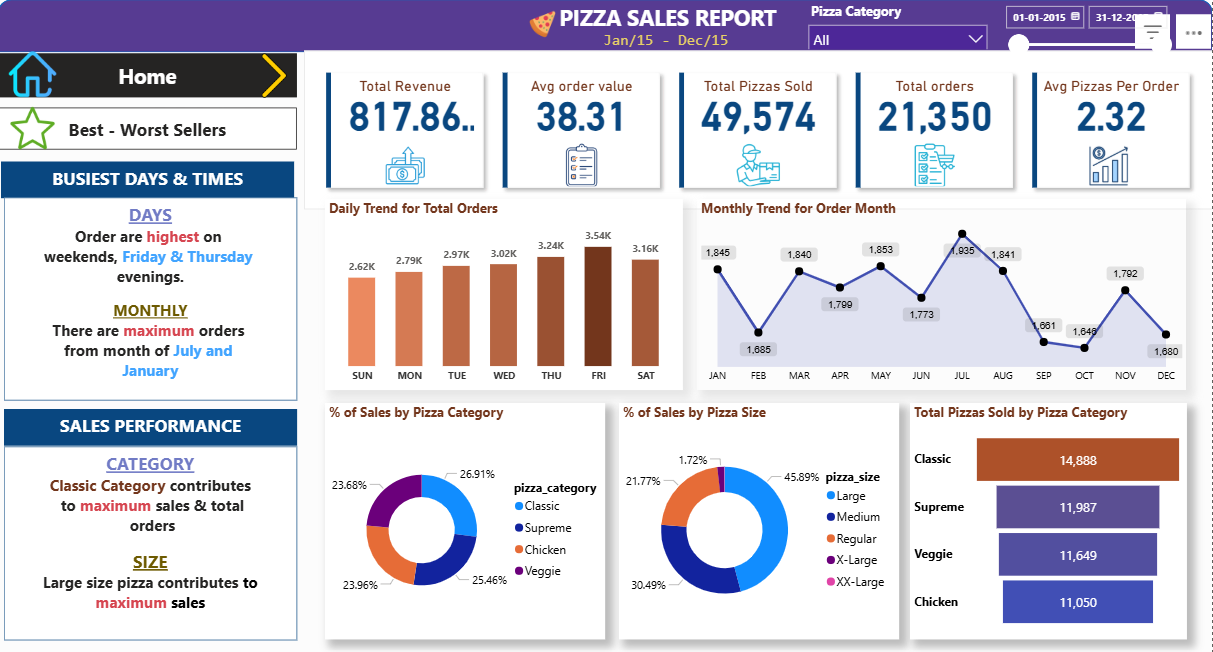

What the dashboard file says about the page in this screenshot:
{"tool":"powerbi","page":{"name":"Home","canvas":[1500,820],"ordinal":0},"visuals":[{"type":"shape","box":[0,1.5,1500,65.2],"z":0},{"type":"cardVisual","fields":{"Data":["pizza_sales.Total Revenue","pizza_sales.Average order value","pizza_sales.Total Pizzas Sold","pizza_sales.Total orders","pizza_sales.Average Pizzas Per Order"]},"box":[377.9,64.8,1122.6,196.4],"z":1000},{"type":"textbox","box":[673.3,0,310,51.7],"z":2000},{"type":"textbox","box":[743.3,35,168.3,31.7],"z":3000},{"type":"image","box":[655,13.3,33.3,38.3],"z":4000},{"type":"columnChart","title":"Daily Trend for Total Orders","fields":{"Y":["pizza_sales.Total orders"],"Category":["pizza_sales.Order Day"]},"box":[404,248,442,236],"z":5000},{"type":"areaChart","title":"Monthly Trend for Order Month","fields":{"Y":["pizza_sales.Total orders"],"Category":["pizza_sales.Order Month"]},"box":[864,248,604,236],"z":6000},{"type":"donutChart","title":"% of Sales by Pizza Category","fields":{"Y":["pizza_sales.Total Revenue"],"Category":["pizza_sales.pizza_category"]},"box":[404,500,346,292],"z":7000},{"type":"donutChart","title":"% of Sales by Pizza Size","fields":{"Y":["pizza_sales.Total Revenue"],"Category":["pizza_sales.pizza_size"]},"box":[766,500,346,292],"z":8000},{"type":"funnel","title":"Total Pizzas Sold by Pizza Category","fields":{"Y":["pizza_sales.Total Pizzas Sold"],"Category":["pizza_sales.pizza_category"]},"box":[1126,500,342,292],"z":9000},{"type":"textbox","box":[3.8,201.9,362.3,45.3],"z":10000},{"type":"textbox","box":[7.5,247.2,362.3,250.9],"z":11000},{"type":"textbox","box":[7.6,507.6,362.1,45.5],"z":12000},{"type":"textbox","box":[7.6,553,362.1,239.4],"z":13000},{"type":"slicer","fields":{"Values":["pizza_sales.pizza_category"]},"box":[990.9,0,240.9,63.6],"z":14000},{"type":"slicer","fields":{"Values":["pizza_sales.order_date"]},"box":[1231.8,0,225.8,80.3],"z":15000},{"type":"pageNavigator","box":[0,67.9,369.8,54.7],"z":16000},{"type":"pageNavigator","box":[0,135.8,369.8,52.8],"z":17000},{"type":"image","box":[313.2,67.9,56.6,54.7],"z":18000},{"type":"image","box":[0,64.2,84.9,58.5],"z":19000},{"type":"image","box":[0,134,84.9,54.7],"z":20000}]}

Visuals, with their boxes on the page's 1500x820 design canvas (x1, y1, x2, y2). These are canvas units, not pixel positions in the 1213x652 screenshot, which may show the page scaled, cropped or inside an application window:
shape: {"x1": 0, "y1": 2, "x2": 1500, "y2": 67}
cardVisual - pizza_sales.Total Revenue x pizza_sales.Average order value: {"x1": 378, "y1": 65, "x2": 1500, "y2": 261}
textbox: {"x1": 673, "y1": 0, "x2": 983, "y2": 52}
textbox: {"x1": 743, "y1": 35, "x2": 912, "y2": 67}
image: {"x1": 655, "y1": 13, "x2": 688, "y2": 52}
"Daily Trend for Total Orders" columnChart: {"x1": 404, "y1": 248, "x2": 846, "y2": 484}
"Monthly Trend for Order Month" areaChart: {"x1": 864, "y1": 248, "x2": 1468, "y2": 484}
"% of Sales by Pizza Category" donutChart: {"x1": 404, "y1": 500, "x2": 750, "y2": 792}
"% of Sales by Pizza Size" donutChart: {"x1": 766, "y1": 500, "x2": 1112, "y2": 792}
"Total Pizzas Sold by Pizza Category" funnel: {"x1": 1126, "y1": 500, "x2": 1468, "y2": 792}
textbox: {"x1": 4, "y1": 202, "x2": 366, "y2": 247}
textbox: {"x1": 8, "y1": 247, "x2": 370, "y2": 498}
textbox: {"x1": 8, "y1": 508, "x2": 370, "y2": 553}
textbox: {"x1": 8, "y1": 553, "x2": 370, "y2": 792}
slicer - pizza_sales.pizza_category: {"x1": 991, "y1": 0, "x2": 1232, "y2": 64}
slicer - pizza_sales.order_date: {"x1": 1232, "y1": 0, "x2": 1458, "y2": 80}
pageNavigator: {"x1": 0, "y1": 68, "x2": 370, "y2": 123}
pageNavigator: {"x1": 0, "y1": 136, "x2": 370, "y2": 189}
image: {"x1": 313, "y1": 68, "x2": 370, "y2": 123}
image: {"x1": 0, "y1": 64, "x2": 85, "y2": 123}
image: {"x1": 0, "y1": 134, "x2": 85, "y2": 189}
